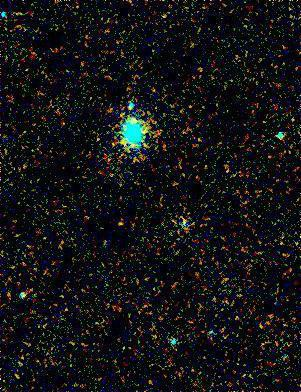star: (102, 206, 132, 236)
